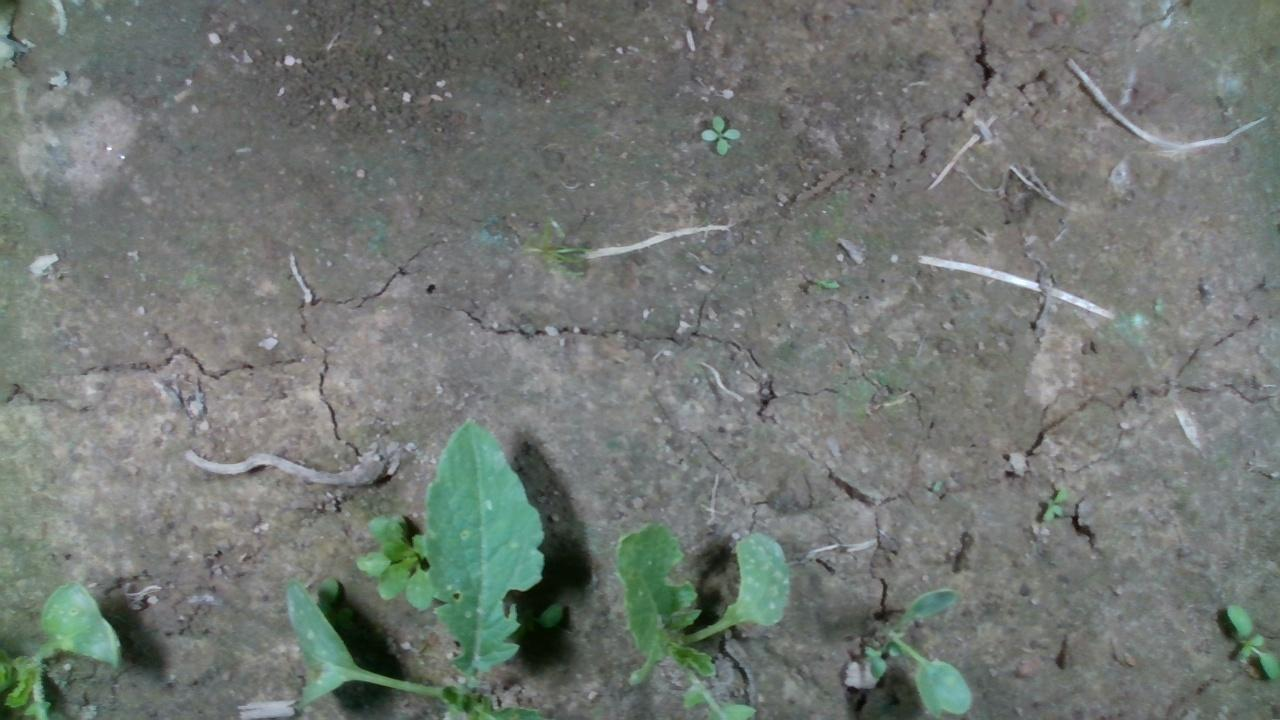weed: (697, 112, 739, 154), (1040, 486, 1068, 522)
